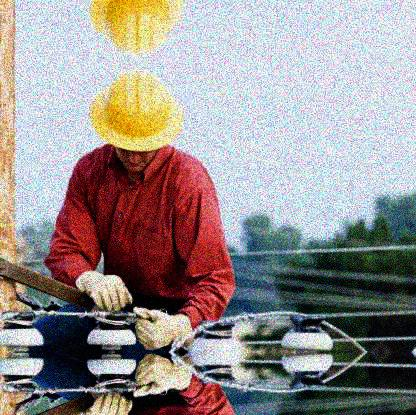helmet: (90, 72, 180, 178)
